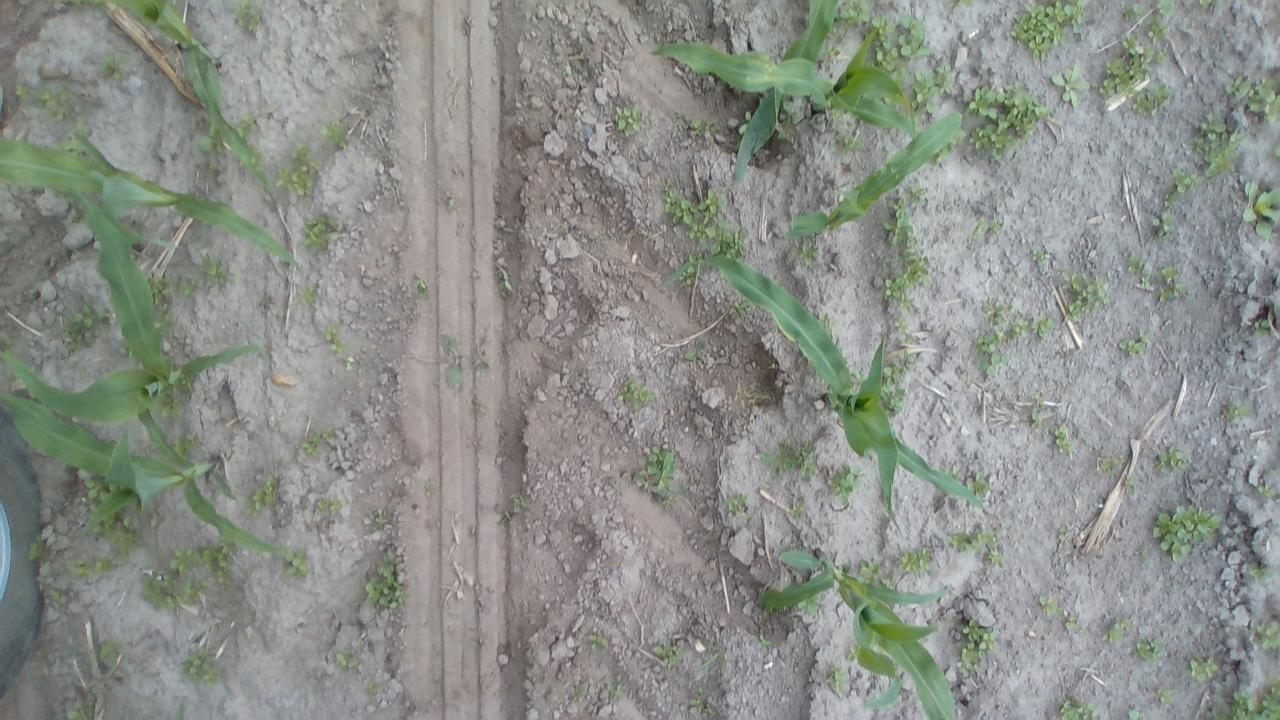Maize: (658, 256, 990, 536), (5, 190, 264, 429), (0, 395, 290, 558), (0, 128, 311, 272), (752, 550, 961, 720), (115, 0, 272, 189), (652, 25, 921, 135), (781, 109, 963, 243), (728, 0, 840, 187), (174, 696, 186, 720)
Weeds: (961, 81, 1046, 162), (661, 179, 750, 256), (971, 298, 1054, 376), (879, 198, 932, 314), (1096, 34, 1168, 114), (1004, 0, 1088, 55), (1153, 504, 1222, 564), (754, 428, 830, 476), (1192, 116, 1247, 178), (1056, 267, 1112, 326), (634, 440, 684, 505), (270, 140, 317, 202), (872, 9, 924, 63), (1212, 679, 1280, 720), (945, 528, 1006, 568), (1242, 178, 1280, 242), (60, 302, 112, 348), (16, 83, 77, 121), (360, 560, 404, 612), (1052, 62, 1094, 112), (198, 542, 244, 586), (959, 622, 994, 676), (140, 572, 182, 616), (144, 274, 174, 332), (822, 461, 862, 504), (102, 514, 142, 556), (1247, 74, 1280, 124), (910, 65, 953, 101), (178, 647, 217, 685), (228, 0, 265, 37), (611, 280, 653, 312), (1164, 172, 1202, 205), (672, 111, 718, 138), (1250, 617, 1280, 658), (621, 376, 659, 408), (831, 1, 876, 28), (440, 333, 460, 393), (1055, 698, 1108, 720), (852, 560, 892, 589), (245, 478, 278, 513), (302, 214, 334, 250), (614, 105, 650, 137), (893, 549, 934, 575), (279, 548, 312, 580), (167, 544, 200, 576), (884, 354, 916, 386), (1158, 268, 1188, 302), (1151, 445, 1186, 474), (1126, 256, 1154, 292), (303, 428, 334, 460), (972, 217, 1002, 250), (492, 264, 518, 302), (320, 121, 352, 151), (96, 52, 128, 81), (824, 663, 850, 697), (1222, 68, 1248, 102), (652, 640, 682, 668), (202, 256, 230, 286), (1220, 395, 1250, 422), (1115, 335, 1148, 359), (70, 556, 102, 580), (1106, 616, 1130, 648), (1133, 635, 1162, 661), (495, 496, 525, 521), (1190, 658, 1218, 684), (1151, 210, 1177, 238), (313, 496, 349, 516), (723, 487, 746, 518), (65, 697, 96, 720), (880, 388, 906, 415), (781, 98, 801, 132), (156, 392, 178, 422), (1036, 596, 1064, 619), (172, 433, 196, 459), (841, 130, 867, 154), (823, 43, 848, 66), (234, 116, 261, 137), (322, 324, 343, 351), (82, 478, 109, 499), (181, 581, 205, 604), (971, 472, 995, 495), (96, 638, 122, 659), (1096, 455, 1122, 476), (1051, 423, 1072, 448), (792, 498, 812, 524), (1064, 610, 1086, 633), (368, 510, 393, 530), (1250, 568, 1280, 584), (412, 274, 431, 298), (46, 586, 72, 603), (909, 182, 933, 200), (334, 652, 359, 669), (296, 282, 317, 302), (893, 318, 914, 338), (1054, 526, 1073, 548), (198, 133, 220, 152), (684, 342, 703, 364), (797, 600, 823, 616), (825, 112, 851, 128), (1150, 0, 1176, 16), (180, 274, 200, 294), (1249, 317, 1269, 336), (588, 636, 614, 650), (730, 300, 749, 319), (686, 697, 710, 712), (1119, 1, 1139, 19), (1148, 22, 1170, 38), (800, 242, 819, 260), (1029, 248, 1048, 266), (817, 312, 834, 332), (364, 681, 386, 696), (842, 645, 862, 661), (442, 192, 458, 212), (605, 680, 621, 700), (946, 0, 978, 10), (1156, 686, 1173, 704), (1259, 481, 1277, 496), (1122, 474, 1136, 493), (26, 542, 42, 558), (1028, 414, 1044, 429), (682, 266, 695, 282), (1126, 706, 1142, 717), (946, 466, 963, 476), (756, 636, 770, 648), (1198, 0, 1212, 10), (1271, 148, 1280, 158)
